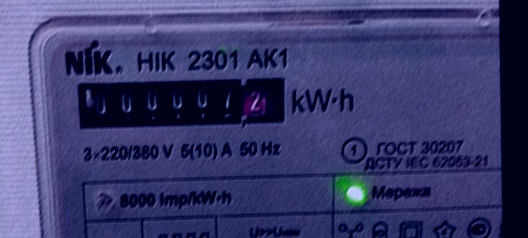0: (93, 91, 108, 115), (170, 87, 185, 110), (145, 88, 159, 111), (195, 86, 209, 109), (119, 91, 133, 113)
2: (248, 89, 262, 112)
7: (221, 85, 234, 109)
screen: (67, 67, 295, 137)
